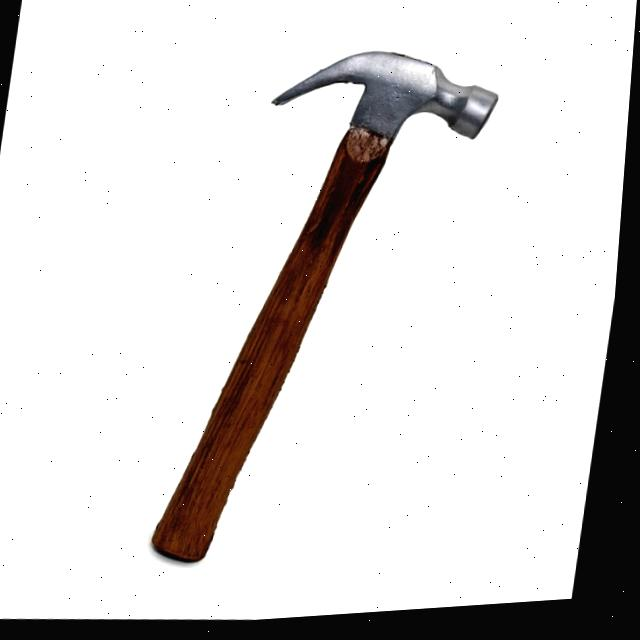hammer: (145, 30, 517, 594)
